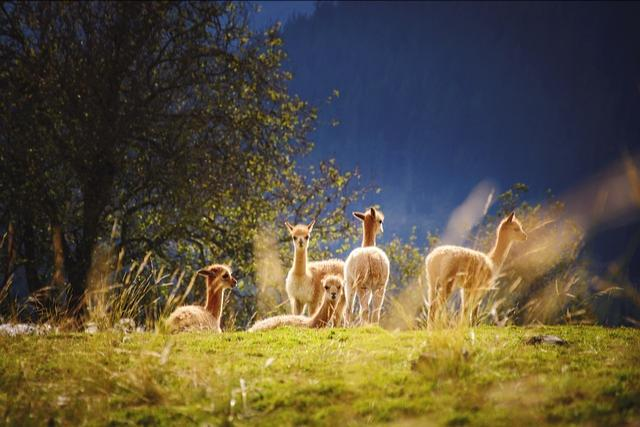Non_Gorille: (60, 27, 601, 427)
